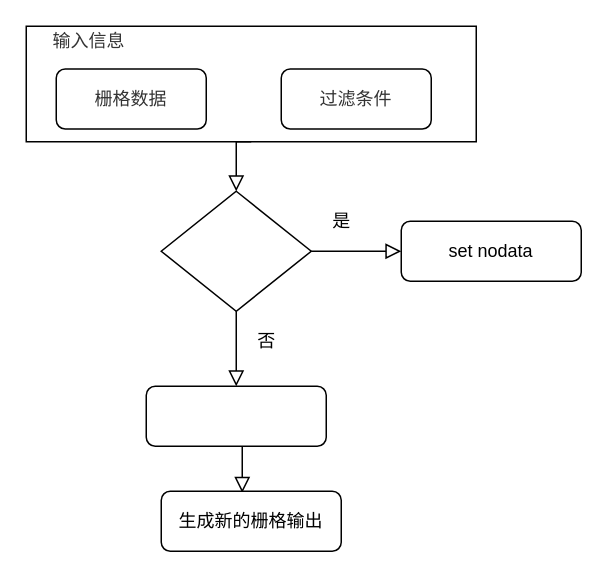
The diagram is 608 pixels wide and 578 high, and some of its shapes have lost their labels. Each missing label, with the centre of its shape:
"设置空值" belongs at [235,250].
"逐像素判断过滤" belongs at [235,415].
